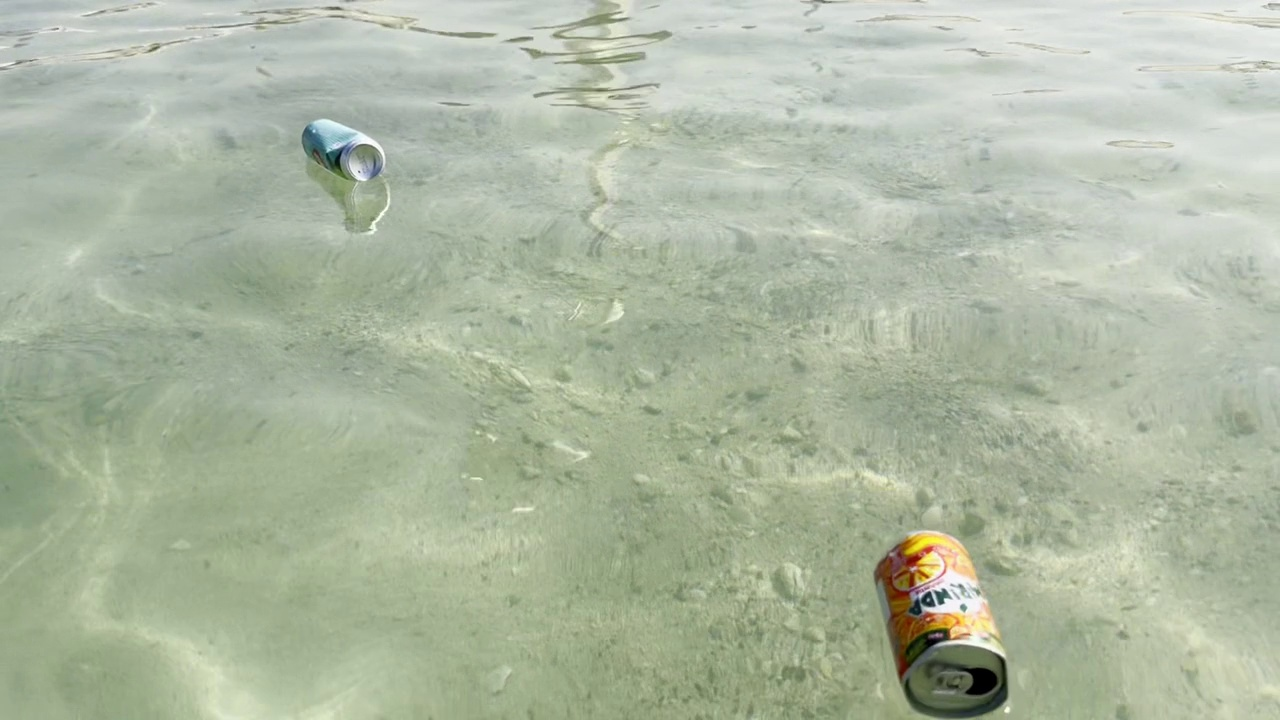debris: (868, 514, 1018, 720), (298, 117, 392, 190)
